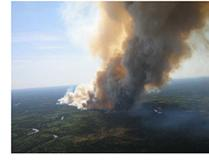smoke: (57, 2, 204, 112)
